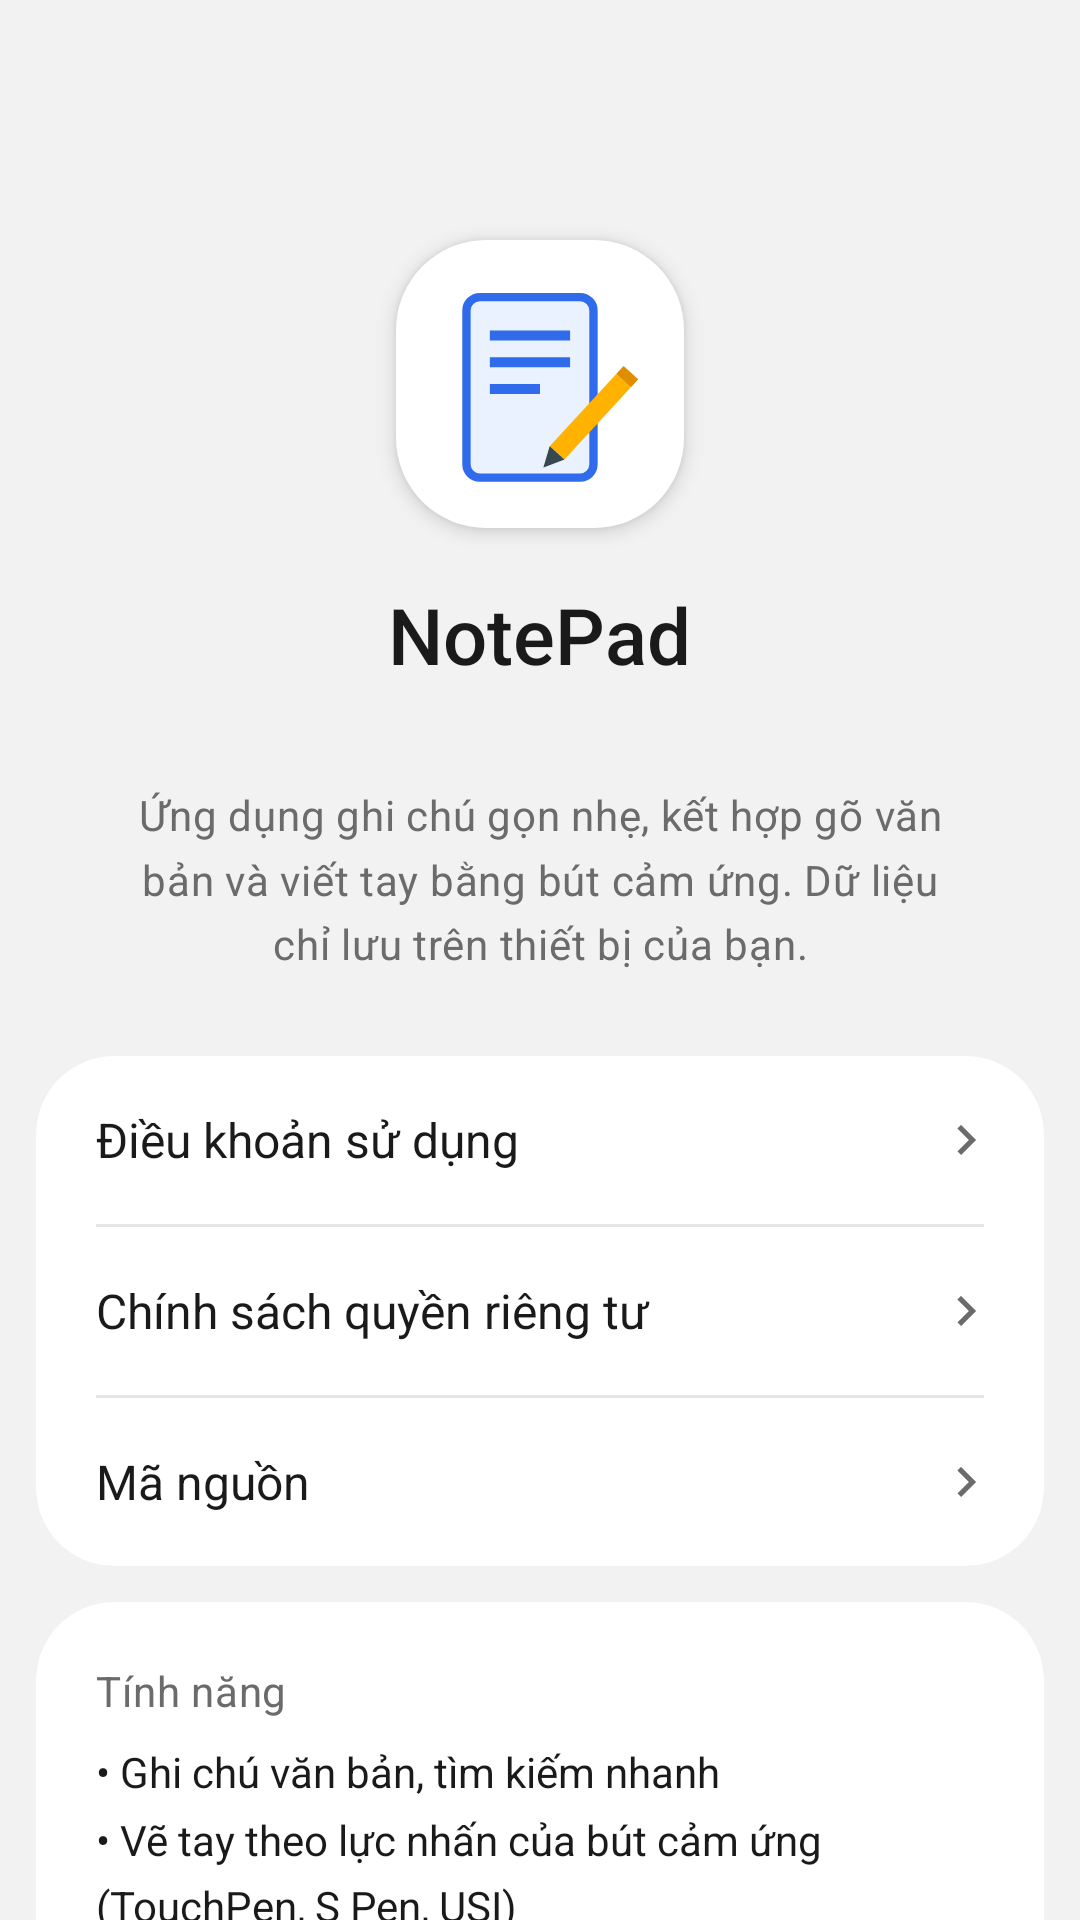

Where to tap for icons on this 1080 x 1920 app screen, as (x=x, y=y):
chevron right: (x=966, y=1140), (x=966, y=1311), (x=966, y=1482)
